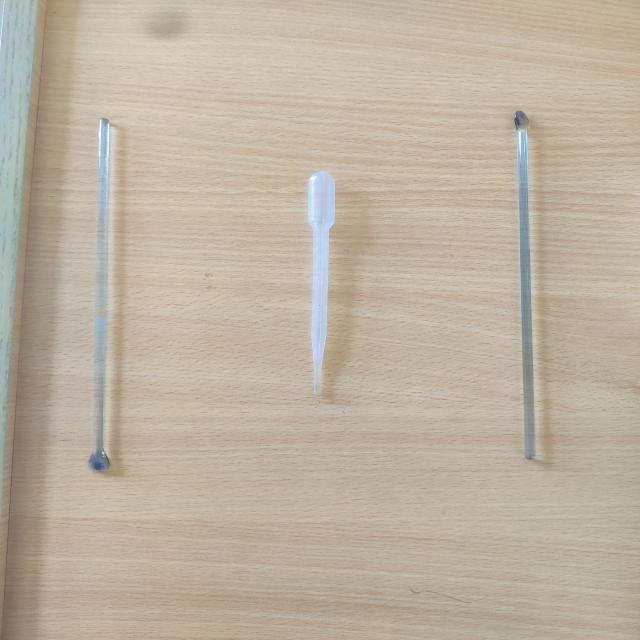Glass_Rod: (463, 89, 598, 492), (47, 79, 171, 490)
Pipette: (248, 144, 403, 426)
